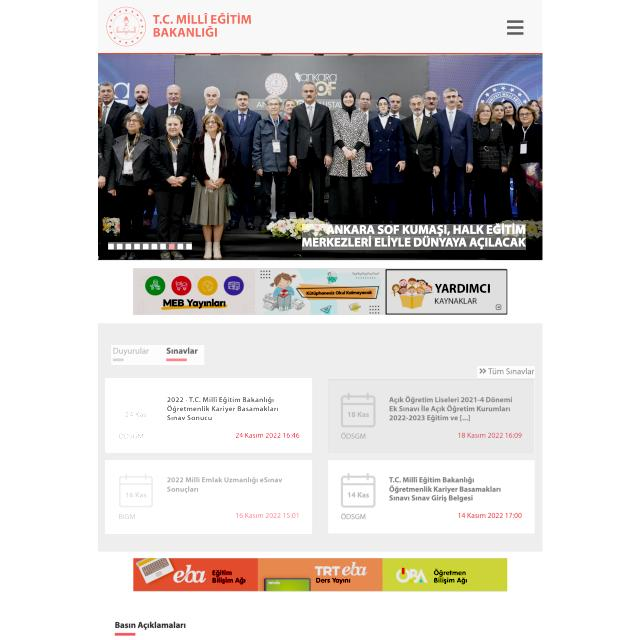CheckBox: (477, 366, 535, 378)
ImageView: (133, 268, 506, 315), (134, 558, 507, 592)
Spinner: (105, 378, 312, 452), (105, 460, 312, 534), (328, 460, 535, 534), (328, 379, 534, 453)
bag: (98, 0, 542, 53)
card: (98, 53, 542, 260)
carousel: (505, 17, 526, 38)
date picker: (104, 4, 253, 48)
decoration: (507, 18, 525, 38)
dropdown: (108, 242, 192, 250)
icon: (111, 345, 206, 365)
image: (302, 224, 526, 250)
